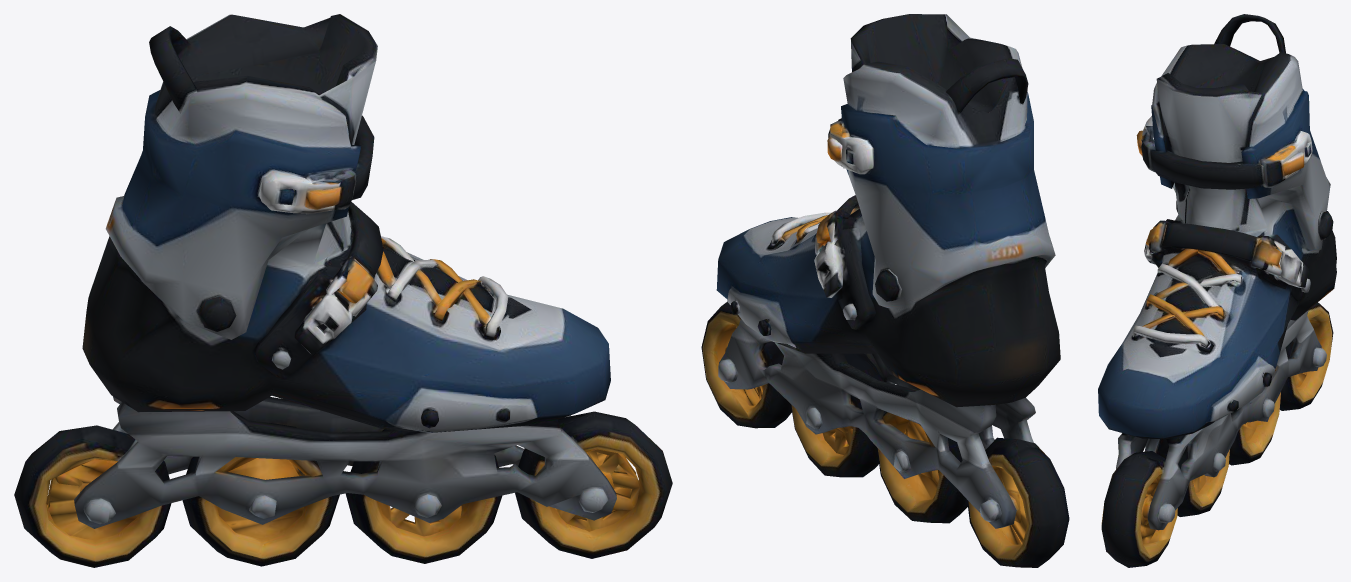
The model's file is 인라인스케이트.glb.
The picture shows the model from 3 angles, left to right: view 1: azimuth 30°, elevation 25°; view 2: azimuth 150°, elevation 25°; view 3: azimuth 270°, elevation 25°; orthographic projection. The views are drawn at different scales.
Visible parts, largest first — view 1: tripo_node_93b2438f-2f07-4582-93f8-0e94f8b95369; view 2: tripo_node_93b2438f-2f07-4582-93f8-0e94f8b95369; view 3: tripo_node_93b2438f-2f07-4582-93f8-0e94f8b95369.
Boxes of the visible parts, bbox=[...] form: tripo_node_93b2438f-2f07-4582-93f8-0e94f8b95369: bbox=[14, 14, 672, 567]; tripo_node_93b2438f-2f07-4582-93f8-0e94f8b95369: bbox=[701, 14, 1069, 567]; tripo_node_93b2438f-2f07-4582-93f8-0e94f8b95369: bbox=[1098, 14, 1336, 567].
Bounding box in the file's own units: 0.998 × 0.998 × 0.5176.
1 material, 1 textured.
